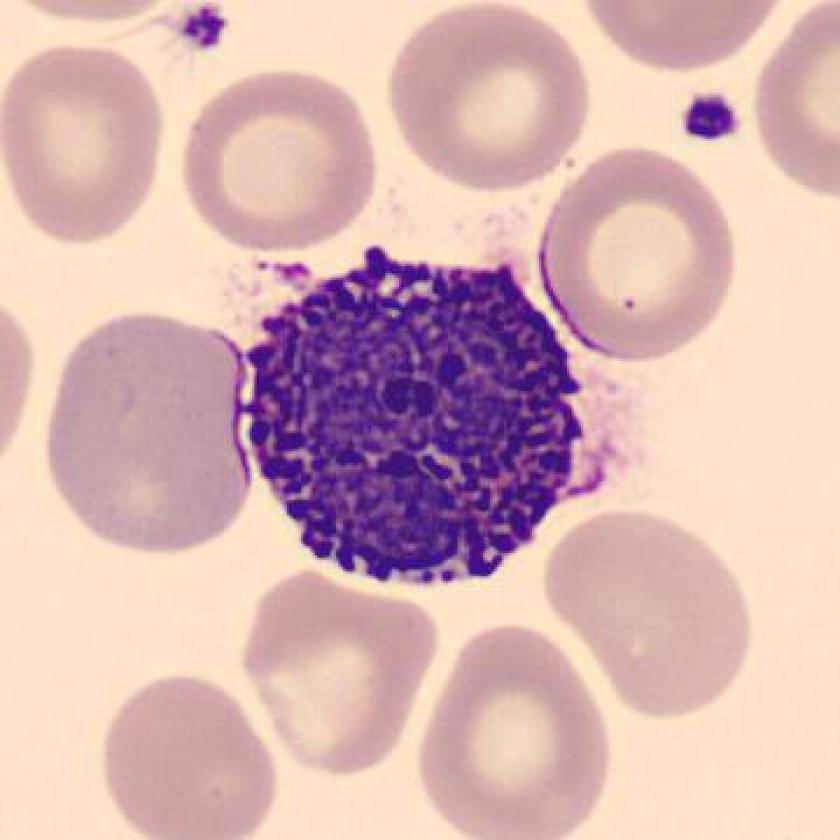basophil: (242, 249, 592, 591)
